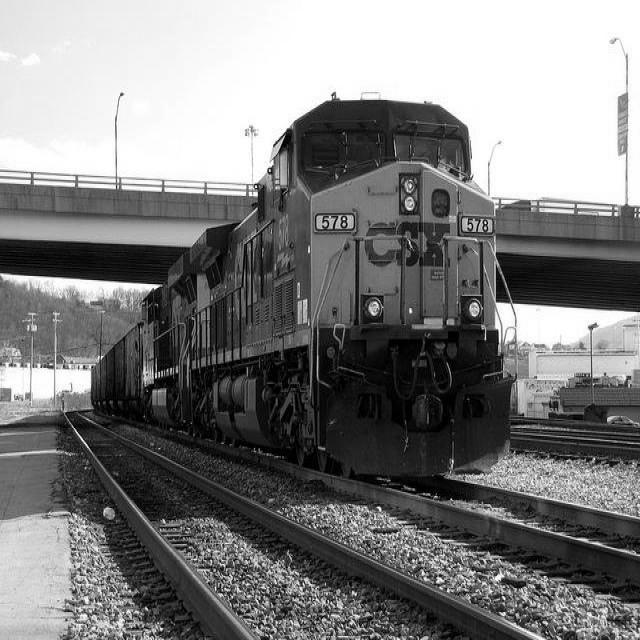vehicle: (607, 415, 639, 427)
